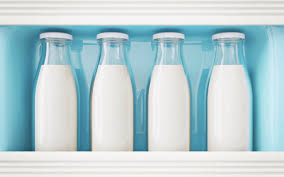milk: (31, 29, 83, 152), (207, 30, 258, 154), (87, 28, 138, 151), (148, 32, 196, 159)
